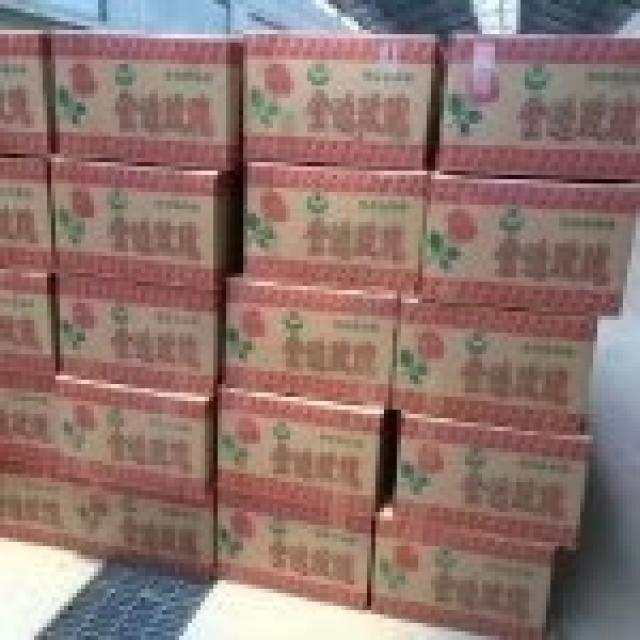box: (433, 34, 636, 179), (389, 291, 598, 431), (242, 32, 445, 173), (426, 175, 636, 310), (394, 410, 596, 550), (50, 28, 241, 170), (55, 154, 241, 290), (366, 515, 569, 636), (241, 166, 432, 290), (217, 384, 387, 519), (220, 278, 397, 407), (55, 262, 226, 393), (57, 368, 220, 495), (213, 487, 373, 612), (59, 474, 217, 575), (0, 28, 52, 156), (0, 260, 59, 368), (0, 150, 53, 264), (0, 366, 55, 475), (0, 465, 58, 546)
